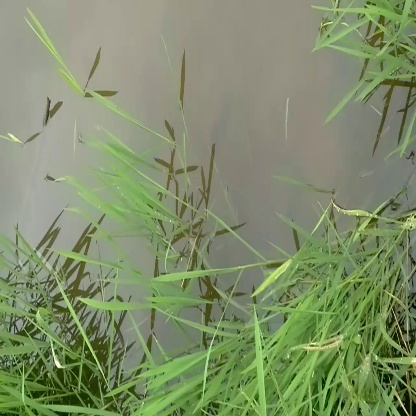grass: (75, 113, 207, 260)
